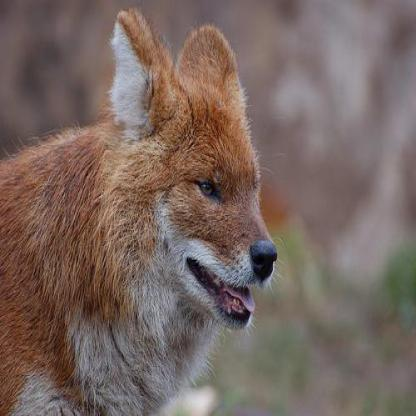dhole: (0, 6, 278, 414)
